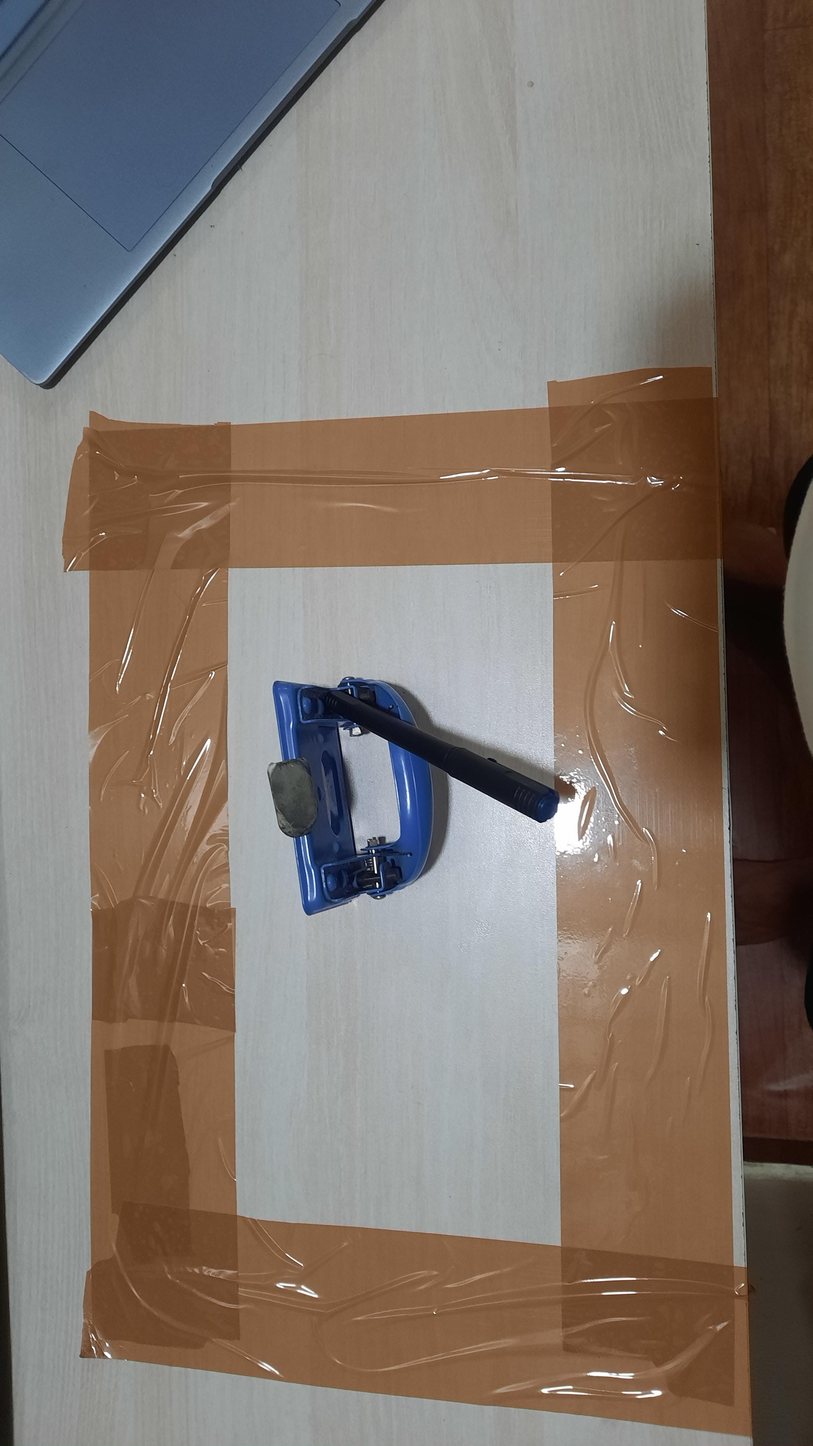Eraser: (267, 758, 319, 839)
Pen: (321, 688, 560, 824)
Punch: (272, 676, 440, 916)
